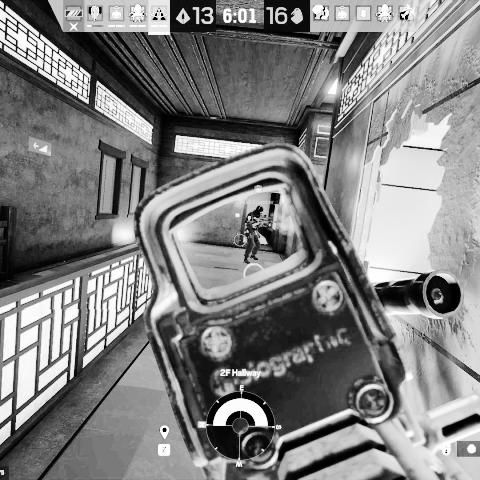Character: (242, 204, 278, 264)
Friend_label: (240, 184, 275, 206)
Head: (255, 205, 264, 214)
